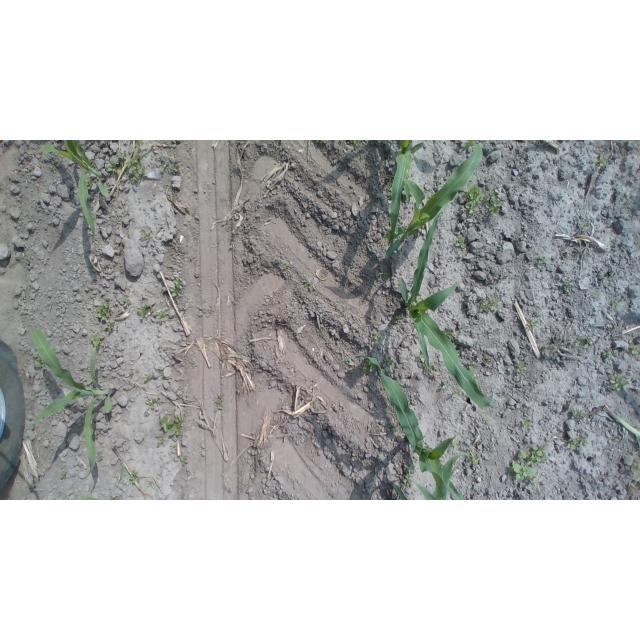Maize: (398, 204, 491, 414), (365, 352, 484, 501), (27, 319, 119, 486), (387, 142, 486, 258), (34, 141, 112, 252), (387, 141, 425, 246)
Weeds: (507, 448, 539, 487), (160, 413, 184, 438), (485, 189, 503, 222), (465, 185, 484, 214), (129, 152, 147, 181), (607, 370, 630, 391), (297, 273, 318, 296), (108, 151, 127, 175), (443, 327, 461, 351), (159, 160, 183, 175), (169, 277, 185, 299), (532, 444, 548, 465), (478, 299, 500, 314), (567, 436, 589, 451), (419, 352, 434, 374), (95, 302, 113, 320), (570, 408, 589, 425), (600, 345, 620, 361), (360, 360, 380, 376), (135, 303, 152, 321), (200, 299, 215, 316), (213, 395, 225, 416), (513, 358, 528, 374), (90, 333, 105, 348), (535, 254, 550, 269), (155, 309, 171, 323), (597, 154, 611, 169), (468, 449, 481, 465), (372, 332, 385, 348), (630, 460, 640, 480), (155, 433, 168, 448), (526, 318, 541, 331), (145, 398, 161, 410), (455, 234, 466, 251), (629, 343, 640, 360), (562, 280, 575, 294), (452, 437, 465, 451), (384, 354, 397, 368), (449, 390, 463, 403), (129, 470, 141, 485), (377, 268, 391, 280), (140, 229, 153, 241), (610, 296, 622, 309), (107, 319, 118, 333), (177, 453, 189, 465), (143, 373, 159, 382), (350, 141, 366, 150), (521, 418, 532, 431), (190, 361, 203, 372), (583, 336, 594, 348), (124, 295, 133, 309), (571, 337, 582, 348), (58, 469, 69, 480), (230, 227, 242, 237), (283, 262, 294, 272), (45, 165, 60, 172), (601, 274, 610, 285), (468, 363, 477, 374), (394, 313, 403, 324), (314, 141, 332, 146)
